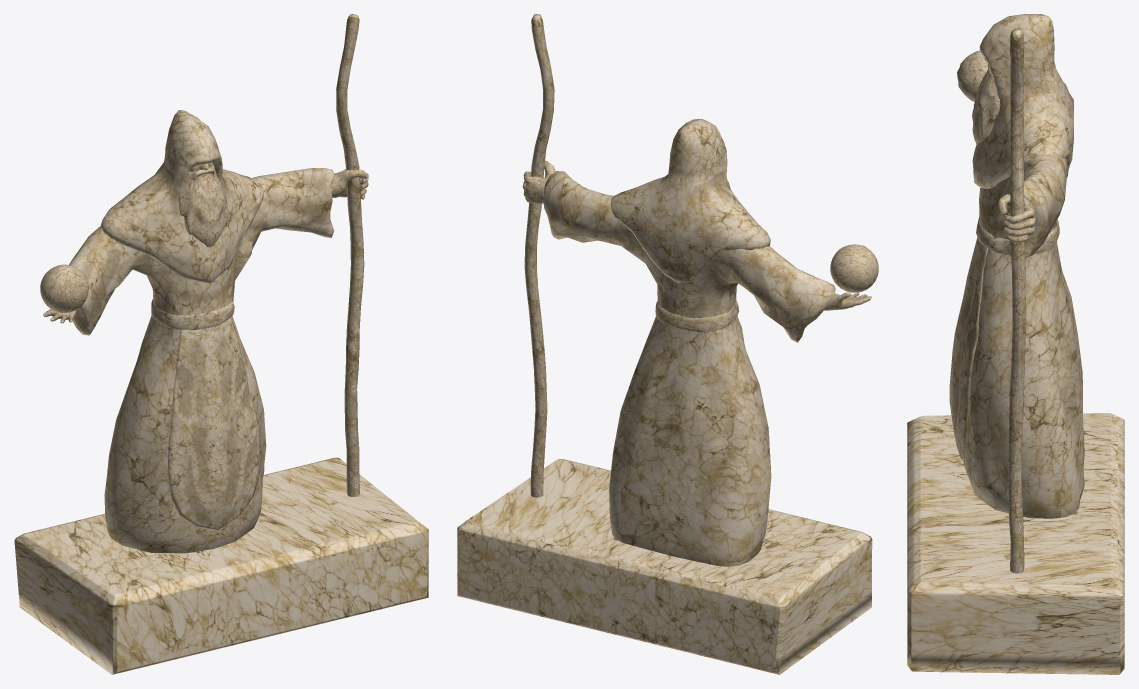
3 renders of one model, left to right at view 1: azimuth 30°, elevation 25°; view 2: azimuth 150°, elevation 25°; view 3: azimuth 270°, elevation 25°, orthographic. The views are drawn at different scales.
Parts seen in each view (by area): view 1: PM3D_Cube3D_4, Extract3_1, Extract11_01, PM3D_Sphere3D_3, PM3D_Cylinder3D1_1, Extract1_3, PM3D_Sphere3D_6, Extract9_2, Skin_main1_2; view 2: PM3D_Cube3D_4, Extract3_1, PM3D_Sphere3D_3, PM3D_Cylinder3D1_1, PM3D_Sphere3D_6, Extract9_2, Skin_main1_2; view 3: PM3D_Cube3D_4, Extract3_1, PM3D_Sphere3D_3, PM3D_Cylinder3D1_1, Extract11_01, Extract1_3, Skin_main1_2, PM3D_Sphere3D_6, Extract9_2.
Boxes of the visible parts, bbox=[...] form: PM3D_Cube3D_4: bbox=[14, 457, 428, 674]; Extract3_1: bbox=[69, 168, 334, 553]; Extract11_01: bbox=[168, 317, 260, 531]; PM3D_Sphere3D_3: bbox=[100, 110, 263, 283]; PM3D_Cylinder3D1_1: bbox=[336, 14, 364, 496]; Extract1_3: bbox=[178, 163, 228, 247]; PM3D_Sphere3D_6: bbox=[40, 264, 88, 312]; Extract9_2: bbox=[151, 299, 234, 329]; Skin_main1_2: bbox=[331, 169, 368, 199]; PM3D_Cube3D_4: bbox=[457, 458, 872, 674]; Extract3_1: bbox=[543, 171, 835, 566]; PM3D_Sphere3D_3: bbox=[611, 119, 770, 282]; PM3D_Cylinder3D1_1: bbox=[524, 14, 554, 497]; PM3D_Sphere3D_6: bbox=[830, 244, 878, 292]; Extract9_2: bbox=[655, 300, 739, 332]; Skin_main1_2: bbox=[522, 160, 555, 203]; PM3D_Cube3D_4: bbox=[907, 413, 1124, 674]; Extract3_1: bbox=[963, 153, 1084, 518]; PM3D_Sphere3D_3: bbox=[972, 14, 1073, 189]; PM3D_Cylinder3D1_1: bbox=[1008, 29, 1026, 573]; Extract11_01: bbox=[949, 237, 988, 460]; Extract1_3: bbox=[972, 64, 1000, 145]; Skin_main1_2: bbox=[998, 194, 1035, 242]; PM3D_Sphere3D_6: bbox=[957, 50, 988, 101]; Extract9_2: bbox=[976, 217, 1059, 254].
Size of the model in its own units: 1.35 by 2 by 0.6304.
Materials: 12 (12 with a texture image).
